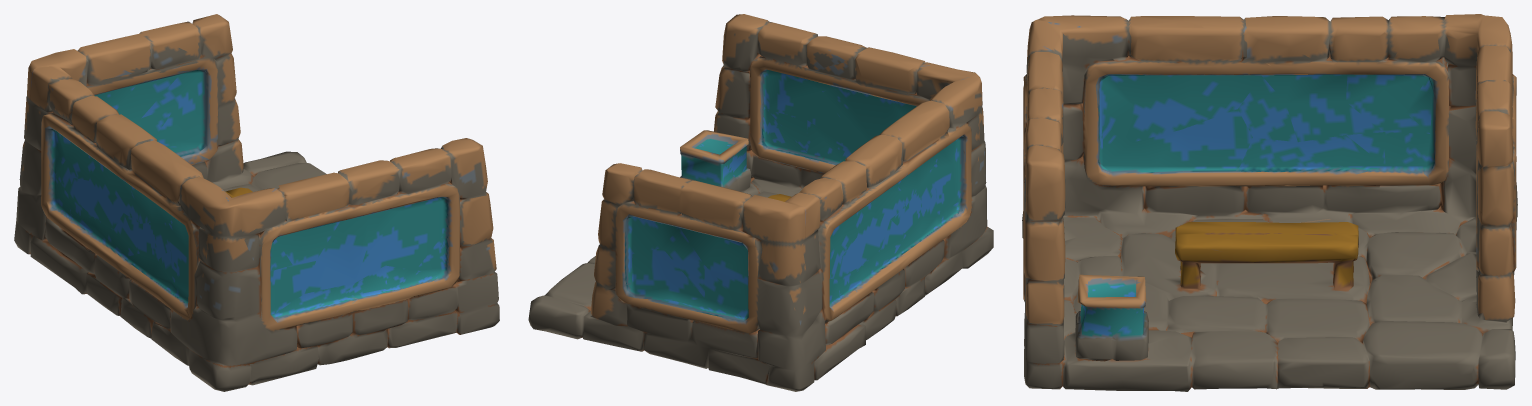
Rendered from room-aquarium.glb.
3 renders of one model, left to right at view 1: azimuth 30°, elevation 25°; view 2: azimuth 150°, elevation 25°; view 3: azimuth 270°, elevation 25°, orthographic. The views are drawn at different scales.
Parts seen in each view (by area): view 1: tripo_node_68f40bc9-6024-4d6d-bca2-d99a3c54135e; view 2: tripo_node_68f40bc9-6024-4d6d-bca2-d99a3c54135e; view 3: tripo_node_68f40bc9-6024-4d6d-bca2-d99a3c54135e.
Boxes of the visible parts, <box> form: tripo_node_68f40bc9-6024-4d6d-bca2-d99a3c54135e: <box>14,14,499,391</box>; tripo_node_68f40bc9-6024-4d6d-bca2-d99a3c54135e: <box>528,14,993,391</box>; tripo_node_68f40bc9-6024-4d6d-bca2-d99a3c54135e: <box>1022,14,1517,391</box>.
Size of the model in its own units: 0.7975 by 0.4919 by 1.
1 material, 1 textured.
